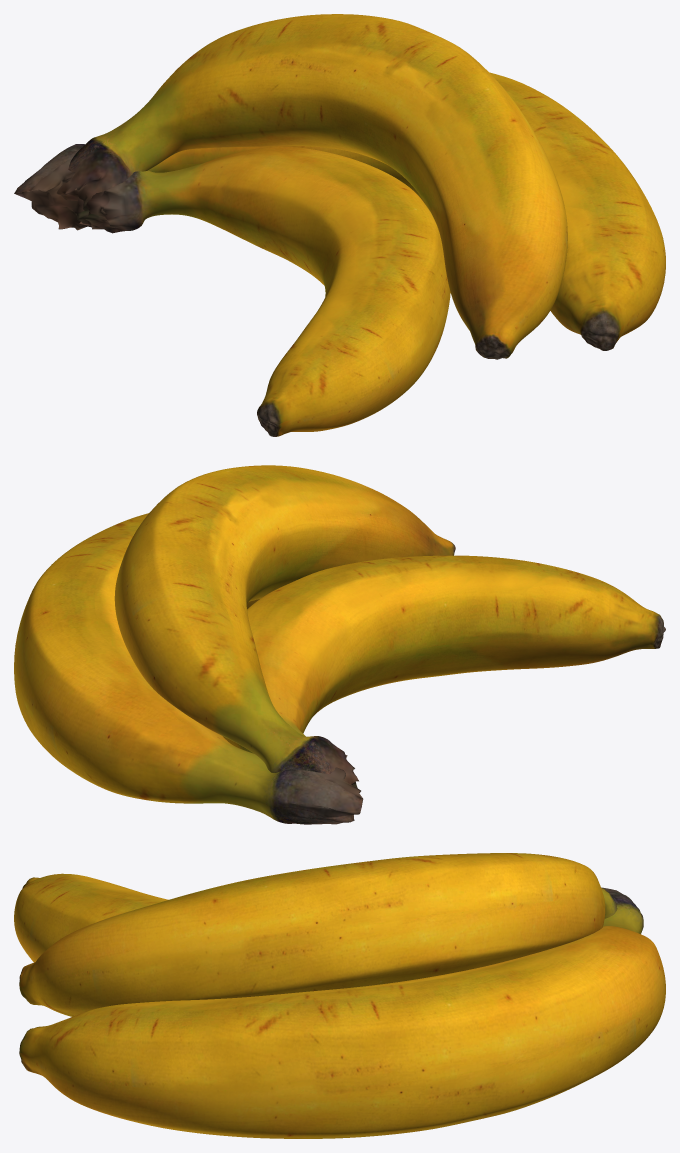
File: Banana.FBX
The picture shows the model from 3 angles, top to bottom: view 1: azimuth 30°, elevation 25°; view 2: azimuth 150°, elevation 25°; view 3: azimuth 270°, elevation 25°; orthographic projection. The views are drawn at different scales.
Visible parts, largest first — view 1: AM130_028_001; view 2: AM130_028_001; view 3: AM130_028_001.
Part boxes in pixels (x1,y1,x2,y2): AM130_028_001: [14, 14, 665, 436]; AM130_028_001: [14, 465, 665, 824]; AM130_028_001: [14, 853, 665, 1138].
Bounding box in the file's own units: 15.78 × 6.82 × 18.28.
